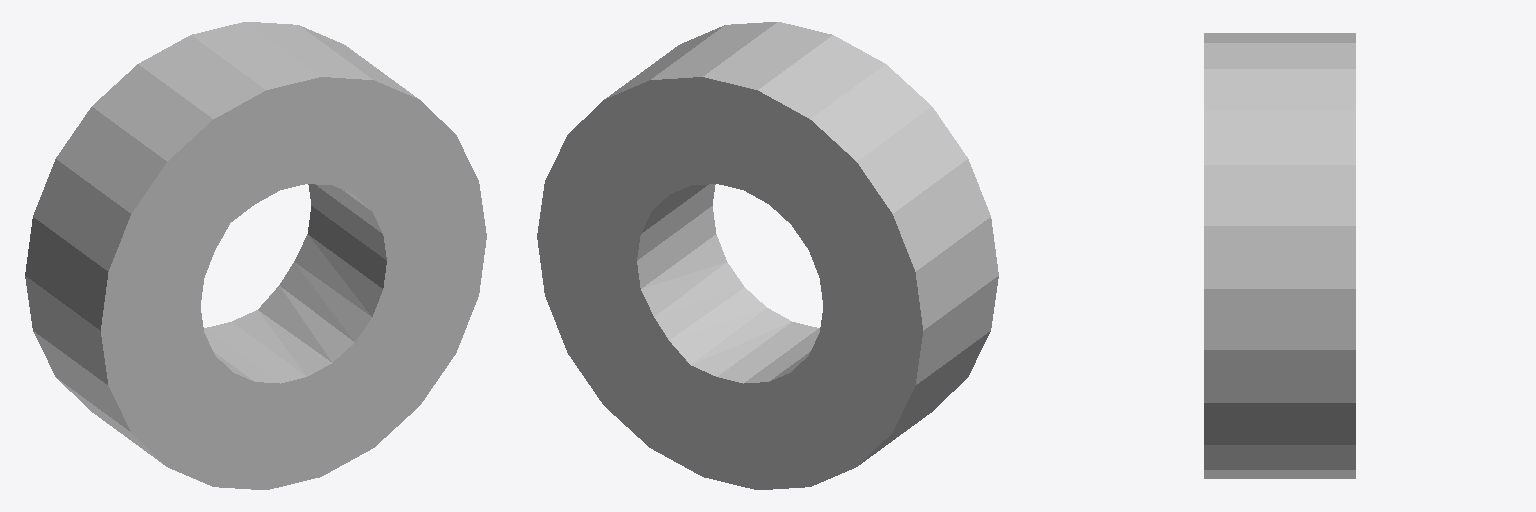
Rendered from tape.obj.
The picture shows the model from 3 angles: view 1: azimuth 30°, elevation 25°; view 2: azimuth 150°, elevation 25°; view 3: azimuth 270°, elevation 25°; orthographic projection.
Bounding box in the file's own units: 0.25 × 0.2475 × 0.0848.